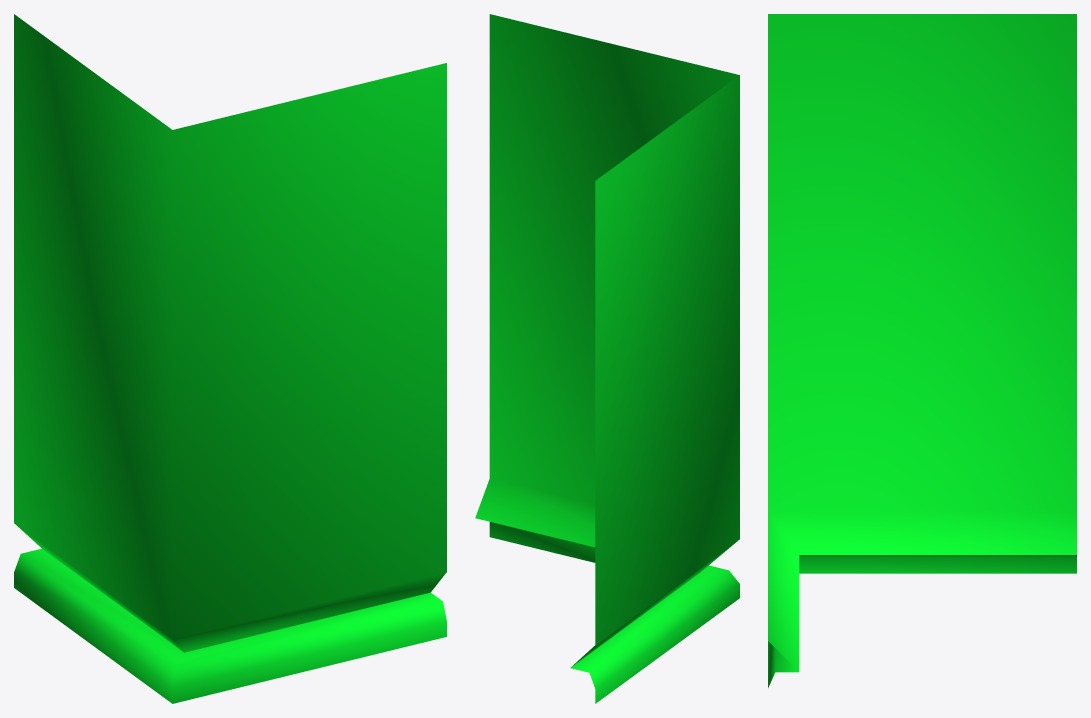
The model's file is 3x6m_outercornerwall.FBX.
The picture shows the model from 3 angles, left to right: view 1: azimuth 30°, elevation 25°; view 2: azimuth 150°, elevation 25°; view 3: azimuth 270°, elevation 25°; orthographic projection. The views are drawn at different scales.
Visible parts, largest first — view 1: 3x6m_outercorner; view 2: 3x6m_outercorner; view 3: 3x6m_outercorner.
Boxes of the visible parts, box(x1,y1,x2,y2) form: 3x6m_outercorner: box(14, 14, 446, 703); 3x6m_outercorner: box(475, 14, 739, 703); 3x6m_outercorner: box(768, 14, 1076, 687).
Size of the model in its own units: 300 by 600 by 300.
